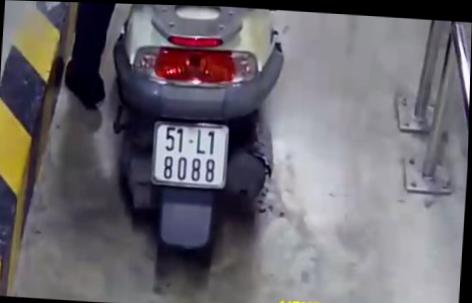LP: (150, 117, 232, 188)
